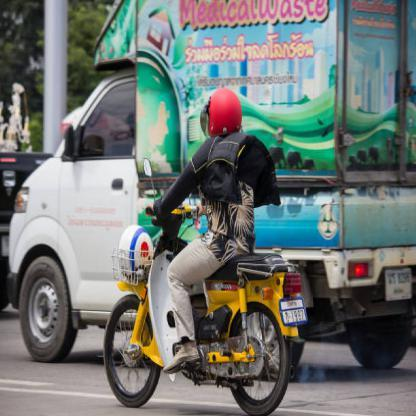Motorcycle: (99, 186, 303, 416)
